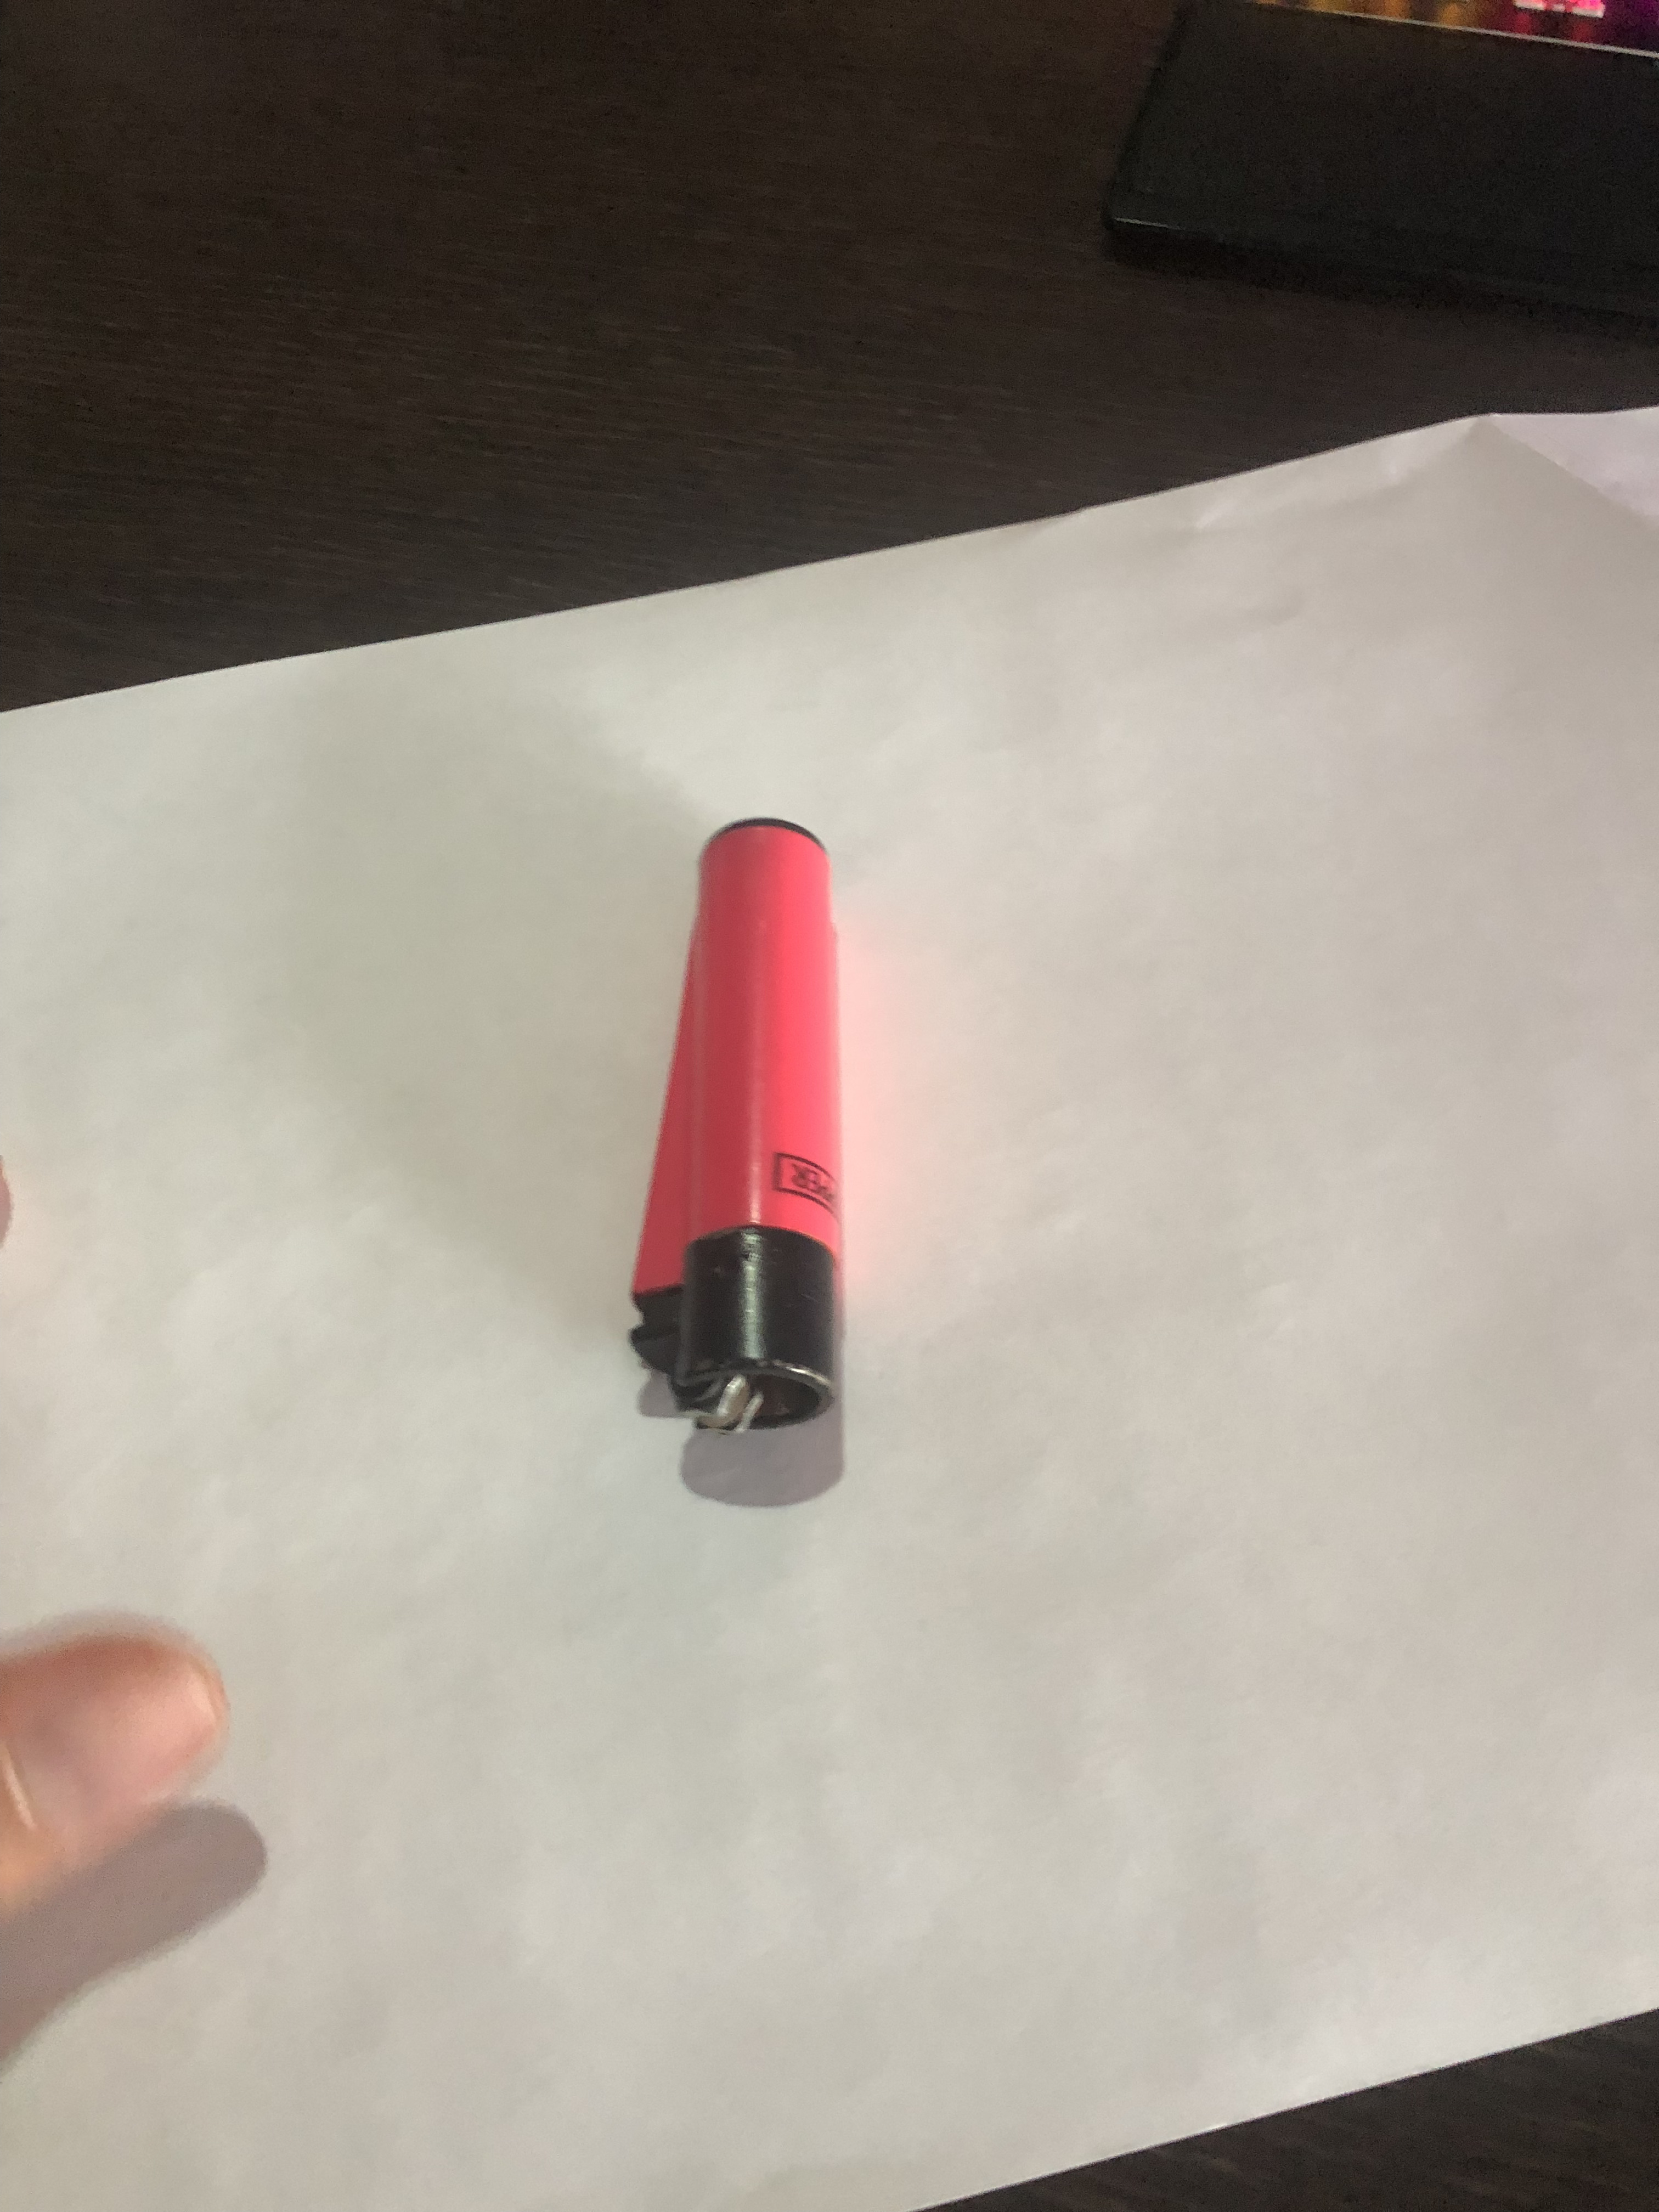Mechero: (617, 812, 857, 1437)
